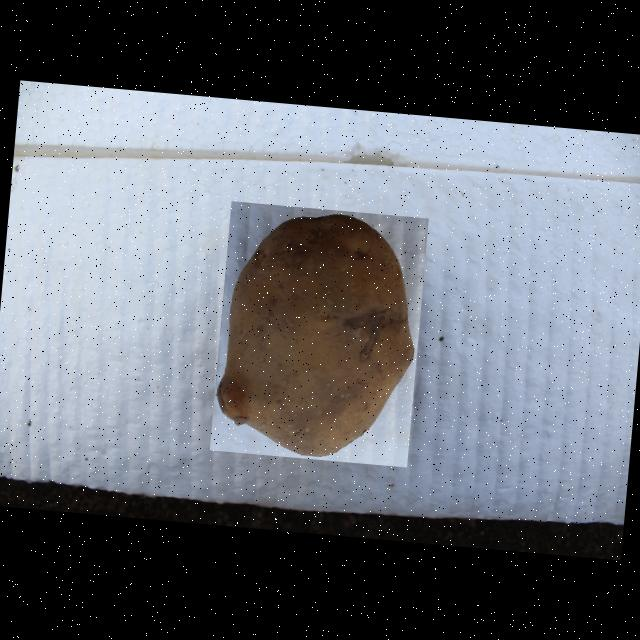Diseased-fungal potato: (210, 201, 428, 467)
